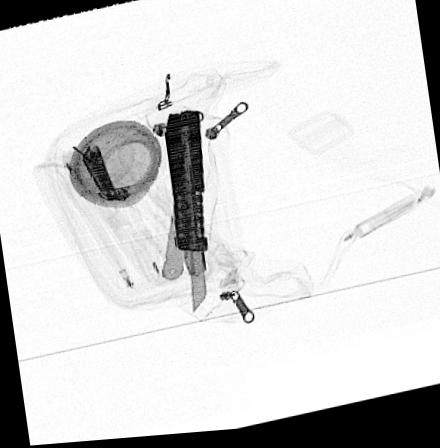Knife: (163, 112, 208, 317), (161, 199, 192, 283)
